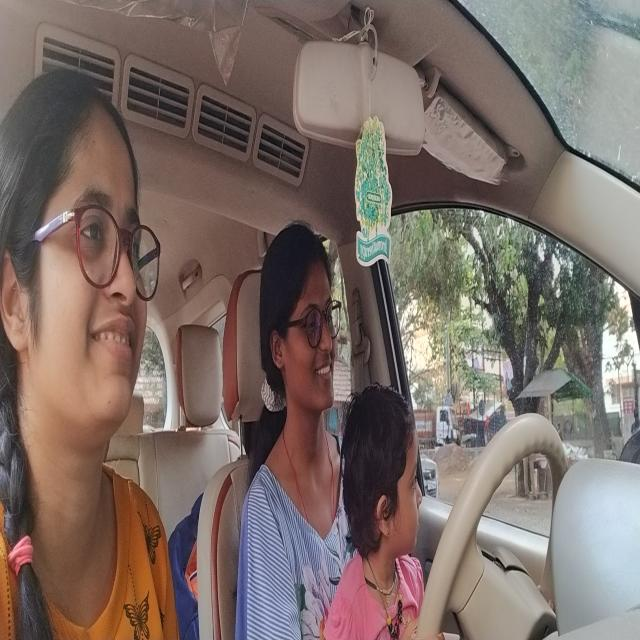child: (355, 386, 427, 563)
person: (23, 78, 150, 434), (267, 217, 340, 421)
